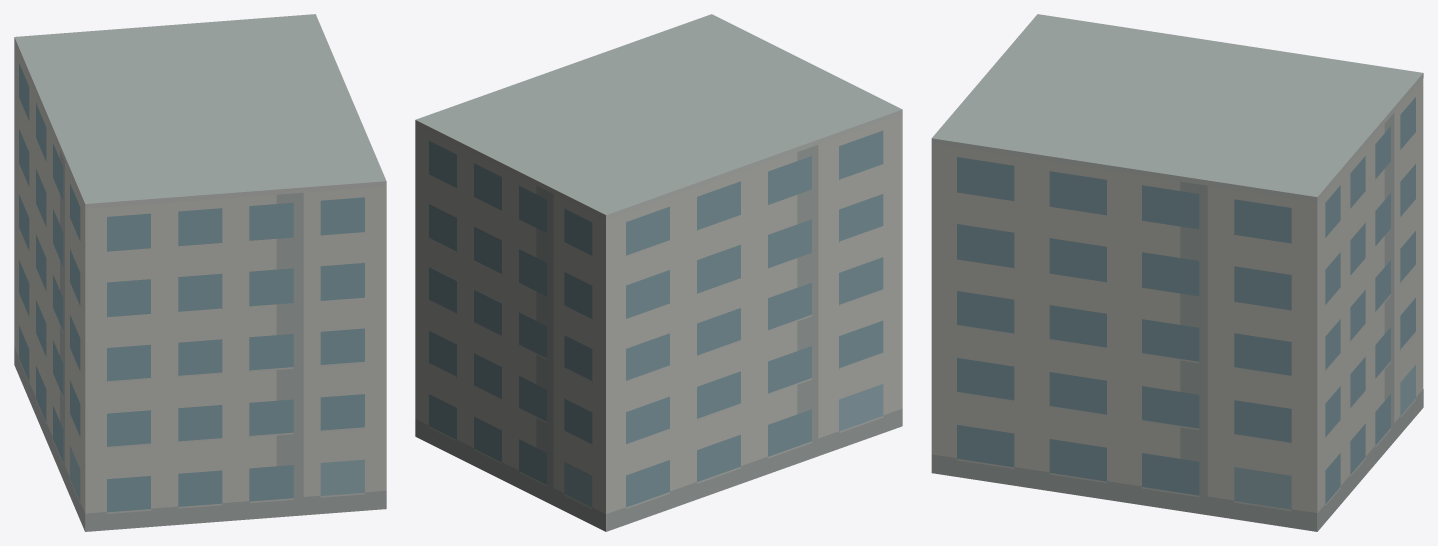
File: residential-c0484af2-bd65-46d7-bd79-516c3b5f47f6.glb
3 renders of one model, left to right at view 1: azimuth 30°, elevation 25°; view 2: azimuth 150°, elevation 25°; view 3: azimuth 270°, elevation 25°, orthographic. The views are drawn at different scales.
Parts seen in each view (by area): view 1: residential-c0484af2-bd65-46d7-bd79-516c3b5f47f6.tmp; view 2: residential-c0484af2-bd65-46d7-bd79-516c3b5f47f6.tmp; view 3: residential-c0484af2-bd65-46d7-bd79-516c3b5f47f6.tmp.
Boxes of the visible parts, x1,y1,x2,y2 form: residential-c0484af2-bd65-46d7-bd79-516c3b5f47f6.tmp: [14, 14, 386, 531]; residential-c0484af2-bd65-46d7-bd79-516c3b5f47f6.tmp: [415, 14, 902, 531]; residential-c0484af2-bd65-46d7-bd79-516c3b5f47f6.tmp: [931, 14, 1423, 531].
Bounding box in the file's own units: 17.9 × 15.25 × 20.32.
